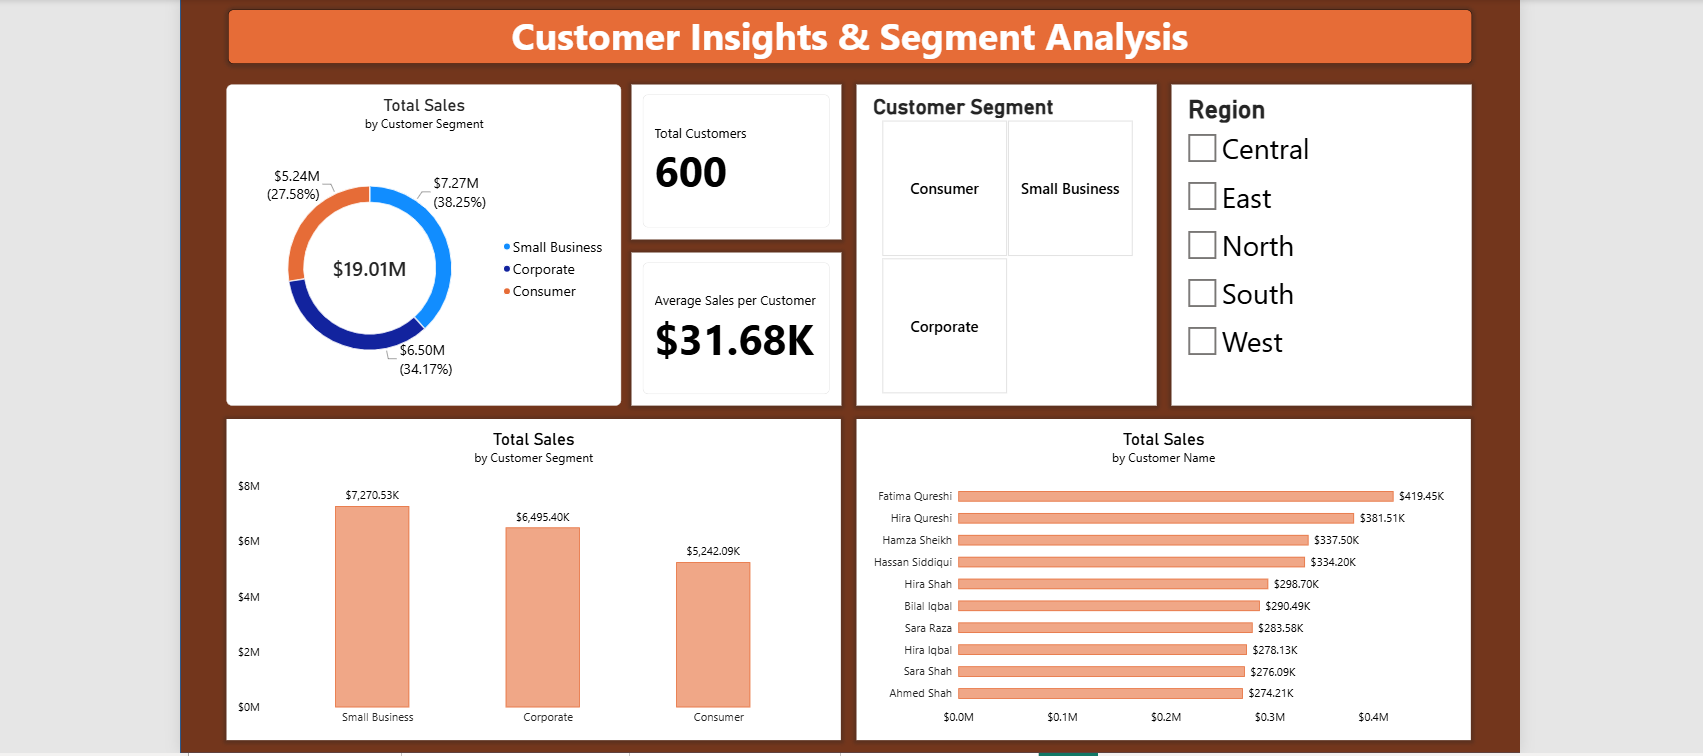

What the dashboard file says about the page in this screenshot:
{"tool":"powerbi","page":{"name":"Customer Analysis","canvas":[1920,1080],"ordinal":2},"visuals":[{"type":"shape","box":[0,0,1920.8,1080.7],"z":0},{"type":"textbox","box":[68,16,1782,78],"z":1000},{"type":"clusteredColumnChart","fields":{"Category":["Customer Master.Customer Segment"],"Y":["Raw Sales Data.Total Sales"]},"box":[67.5,602.5,880,460],"z":2000},{"type":"clusteredBarChart","fields":{"Category":["Customer Master.Customer Name"],"Y":["Raw Sales Data.Total Sales"]},"box":[970,602.5,880,460],"z":3000},{"type":"donutChart","fields":{"Category":["Customer Master.Customer Segment"],"Y":["Raw Sales Data.Total Sales"]},"box":[67.5,122.5,565,460],"z":4000},{"type":"cardVisual","fields":{"Data":["Raw Sales Data.Average Sales per Customer"]},"box":[646.7,363.1,300.8,219.2],"z":5000},{"type":"cardVisual","fields":{"Data":["Raw Sales Data.Total Customers"]},"box":[646.6,121.7,300.6,221.9],"z":6000},{"type":"slicer","fields":{"Values":["Customer Master.Customer Segment"]},"box":[970,122.5,430,460],"z":7000},{"type":"slicer","fields":{"Values":["Customer Master.Region"]},"box":[1420,122.5,430,460],"z":8000}]}

Visuals, with their boxes on the page's 1920x1080 design canvas (x1, y1, x2, y2). These are canvas units, not pixel positions in the 1703x756 screenshot, which may show the page scaled, cropped or inside an application window:
shape: (x1=0, y1=0, x2=1921, y2=1081)
textbox: (x1=68, y1=16, x2=1850, y2=94)
clusteredColumnChart - Customer Master.Customer Segment x Raw Sales Data.Total Sales: (x1=68, y1=602, x2=948, y2=1062)
clusteredBarChart - Customer Master.Customer Name x Raw Sales Data.Total Sales: (x1=970, y1=602, x2=1850, y2=1062)
donutChart - Customer Master.Customer Segment x Raw Sales Data.Total Sales: (x1=68, y1=122, x2=632, y2=582)
cardVisual - Raw Sales Data.Average Sales per Customer: (x1=647, y1=363, x2=948, y2=582)
cardVisual - Raw Sales Data.Total Customers: (x1=647, y1=122, x2=947, y2=344)
slicer - Customer Master.Customer Segment: (x1=970, y1=122, x2=1400, y2=582)
slicer - Customer Master.Region: (x1=1420, y1=122, x2=1850, y2=582)
